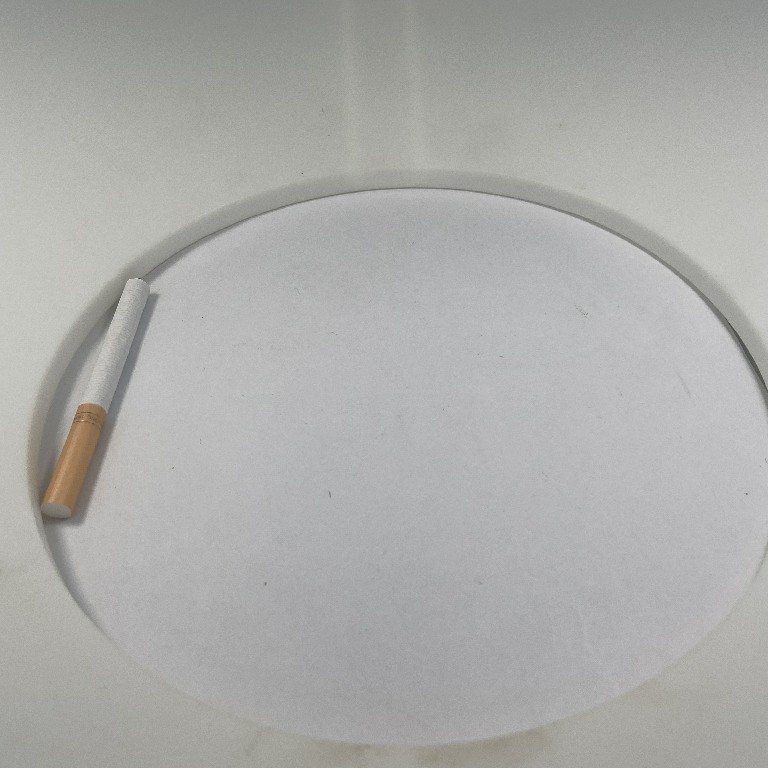cigarette: (38, 269, 154, 525)
